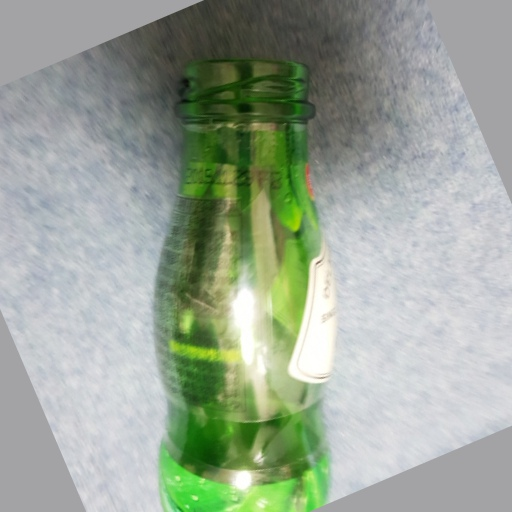Glass_4: (157, 54, 340, 512)
